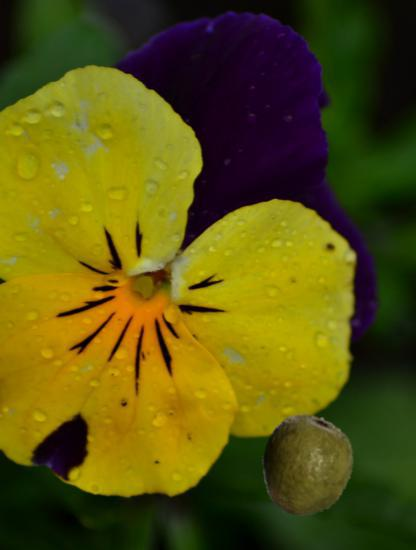Guava: (254, 414, 358, 518)
